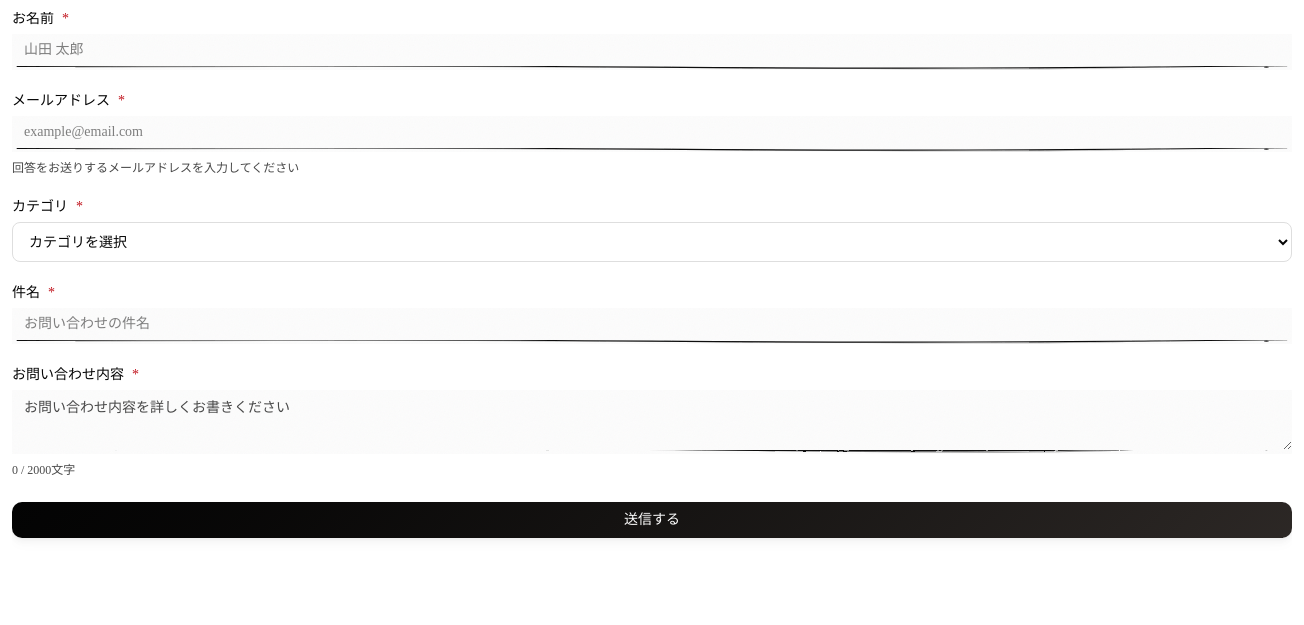
Test: ContactForm › エラー応答 › Server Action が { error } を返した場合、エラーメッセージを表示し送信完了状態にしない
The image size is (1304, 625).
Type "山田太郎" into the field labelled "お名前 *".
click(652, 52); type("山田太郎")  # box [12,34,1292,70]
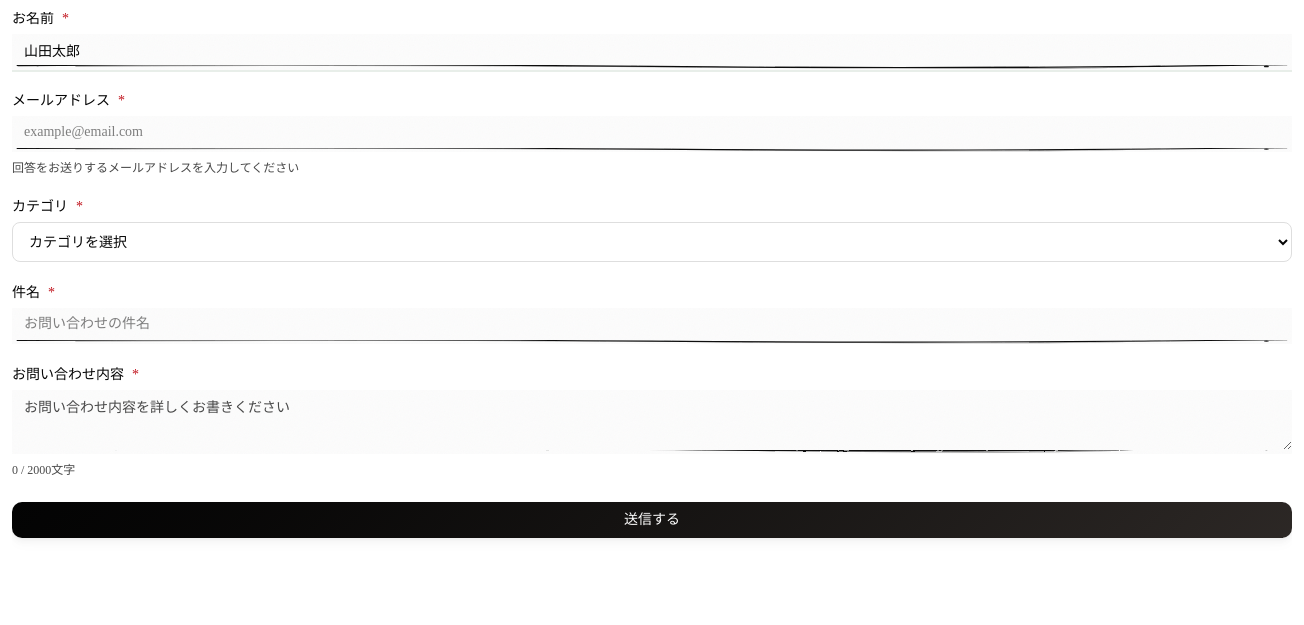
Type "test@example.com" into the field labelled "メールアドレス *".
click(652, 134); type("test@example.com")  # box [12,116,1292,152]
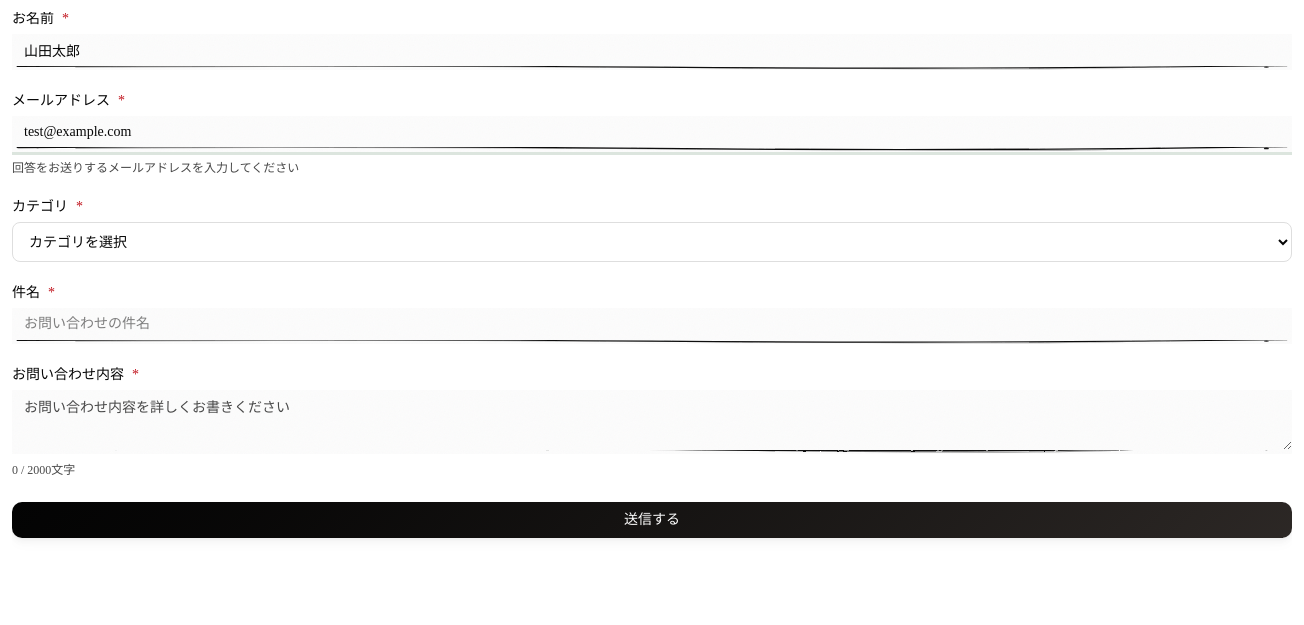
Select "一般的なお問い合わせ" in the dropdown labelled "カテゴリ *" at coordinates (652, 242), box [12,222,1292,262]
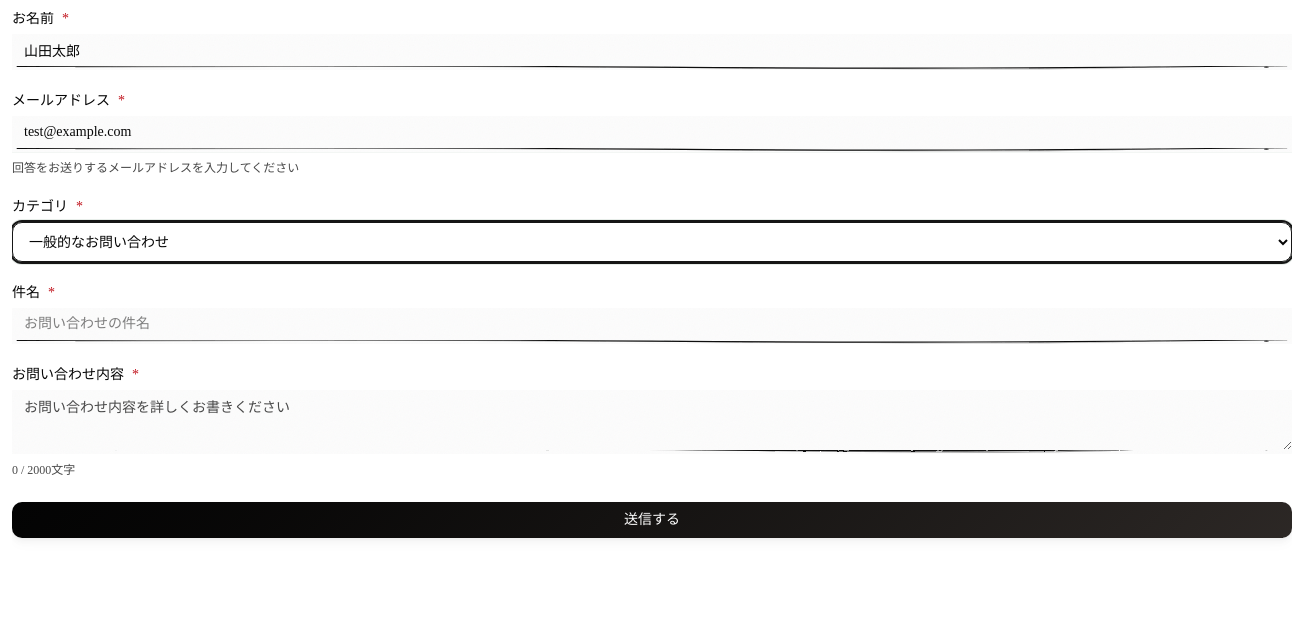
Type "テスト件名" into the field labelled "件名 *".
click(652, 326); type("テスト件名")  # box [12,308,1292,344]
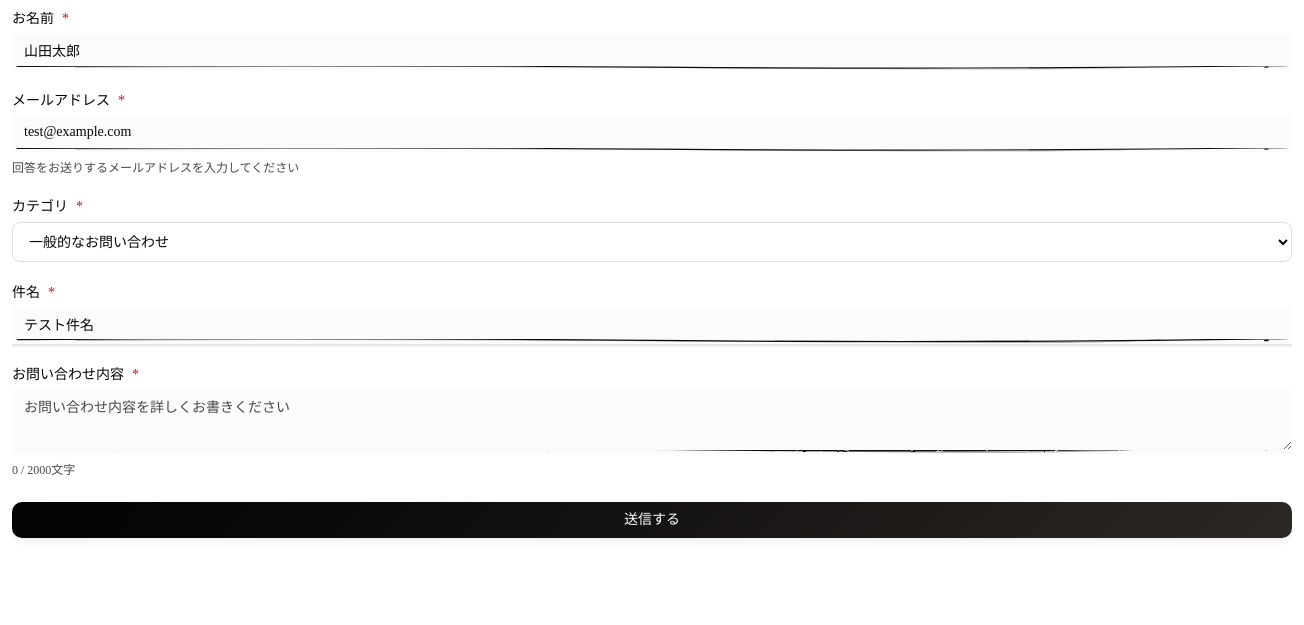
Type "これはテストのお問い合わせ内容です。" into the text box labelled "お問い合わせ内容 *".
click(652, 422); type("これはテストのお問い合わせ内容です。")  # box [12,390,1292,454]
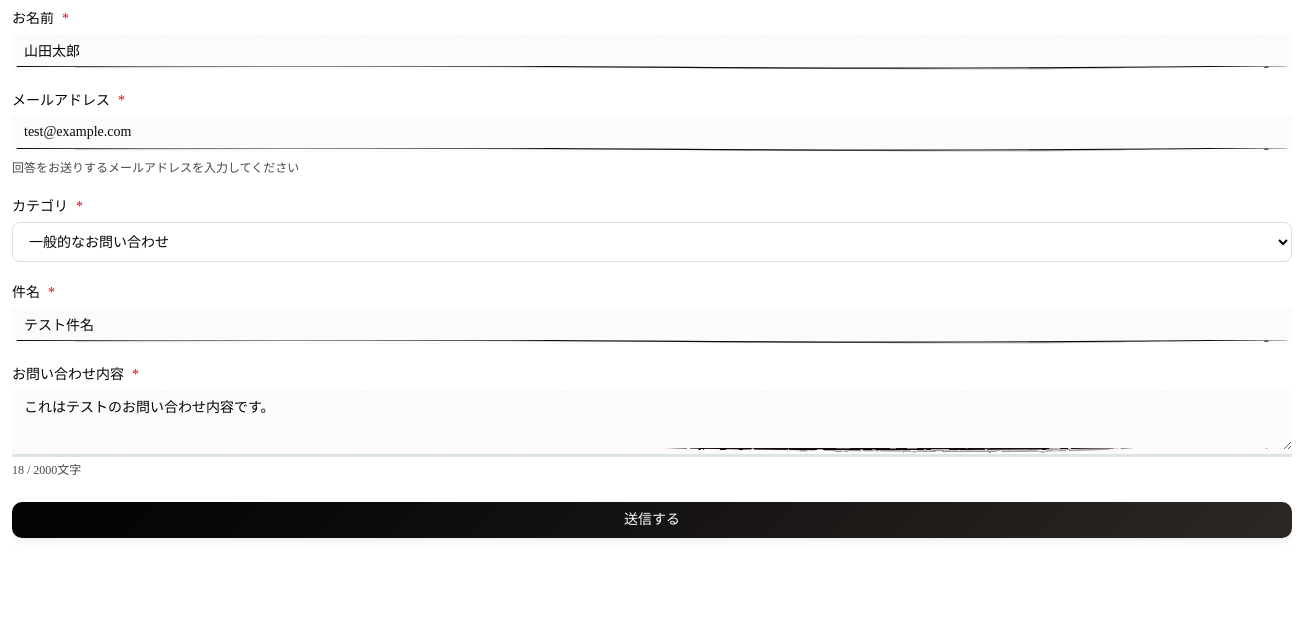
Click the button "送信する".
click(652, 520)  # box [12,502,1292,538]
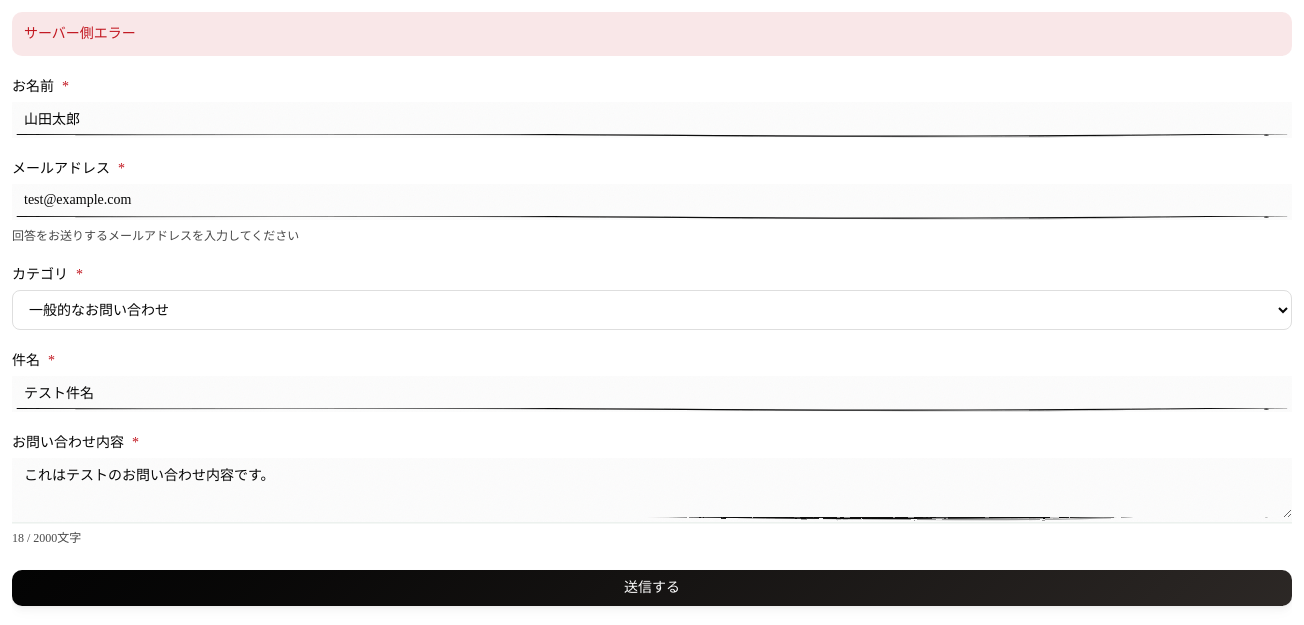
Expected: the text "サーバー側エラー" is shown, [12,12,1292,56]
